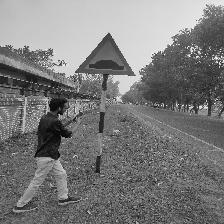Speed-breaker: (75, 34, 135, 75)
